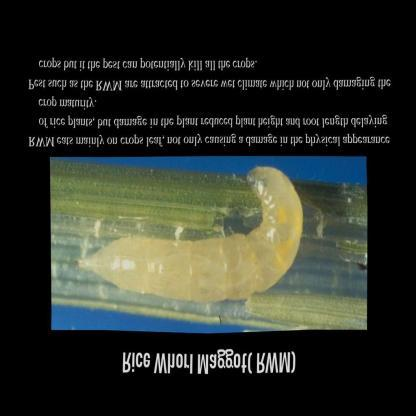whorl-maggot: (74, 164, 306, 310)
